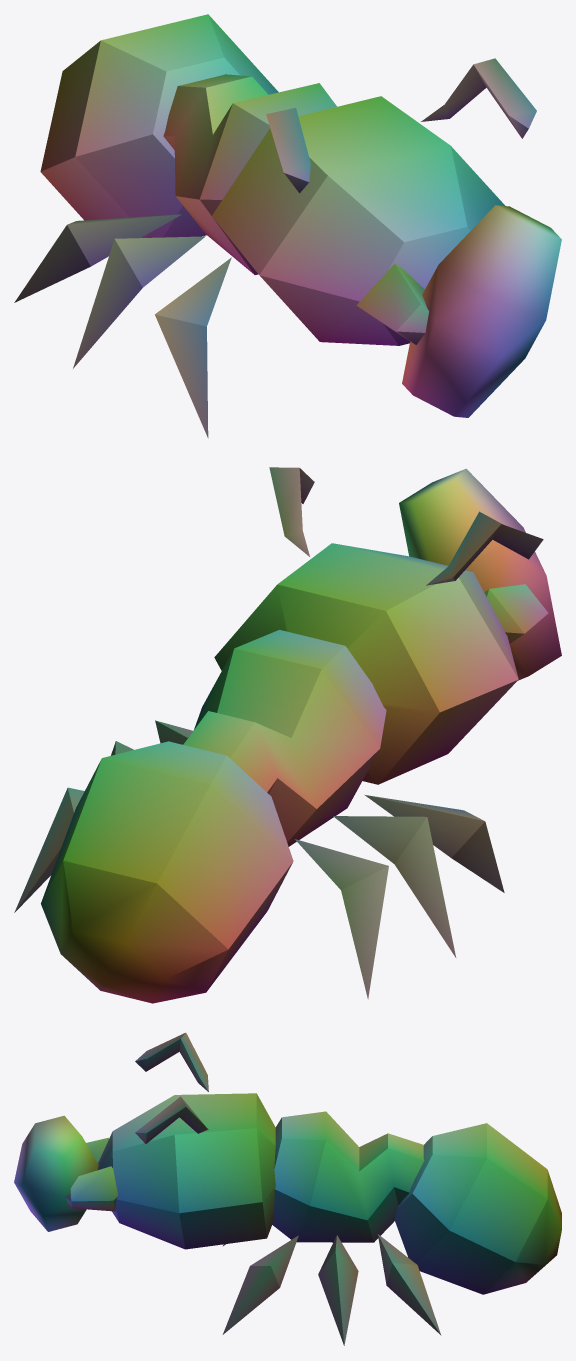
The picture shows the model from 3 angles, top to bottom: view 1: azimuth 30°, elevation 25°; view 2: azimuth 150°, elevation 25°; view 3: azimuth 270°, elevation 25°; orthographic projection. The views are drawn at different scales.
Visible parts, largest first — view 1: Character2; view 2: Character2; view 3: Character2.
Part boxes in pixels (<box>): Character2: <box>14,14,561,438</box>; Character2: <box>14,467,561,1003</box>; Character2: <box>14,1032,561,1345</box>.
Bounding box in the file's own units: 176 × 151 × 332.
